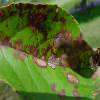Apple Scab Leaf: (0, 1, 100, 100)
